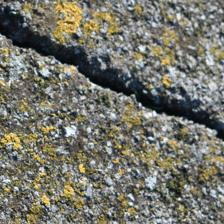Crack: (2, 5, 219, 132)
